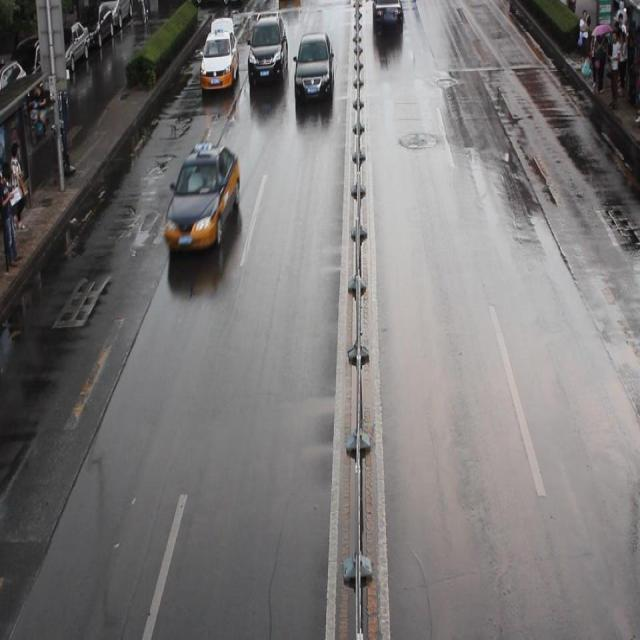car: (164, 143, 240, 253), (293, 33, 334, 103), (247, 15, 288, 81), (199, 29, 239, 92), (372, 1, 403, 29), (278, 1, 299, 7)
